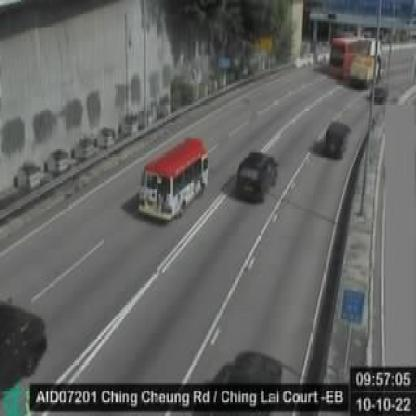Bus: (328, 36, 381, 78)
Car: (0, 302, 47, 398), (234, 152, 277, 200), (323, 122, 350, 158)
Minibus: (141, 134, 209, 222)
